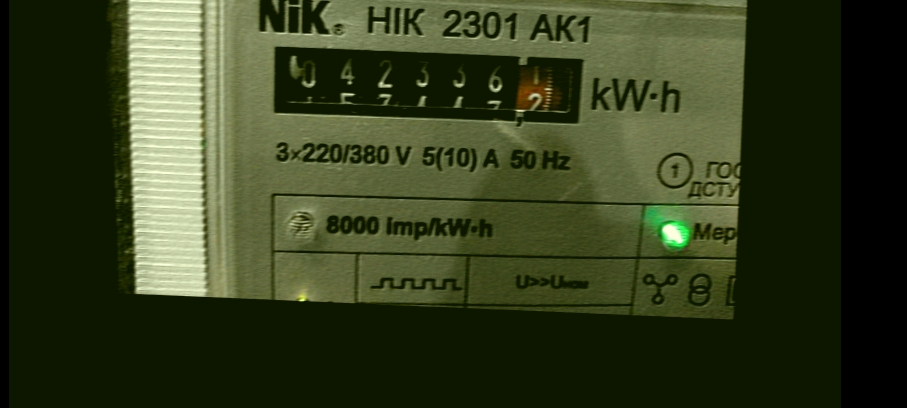0: (298, 55, 319, 89)
1: (529, 59, 542, 85)
2: (375, 54, 397, 89), (525, 90, 543, 111)
3: (412, 55, 431, 88), (451, 57, 469, 89)
4: (339, 53, 357, 85)
6: (485, 60, 507, 95)
screen: (259, 30, 598, 136)
